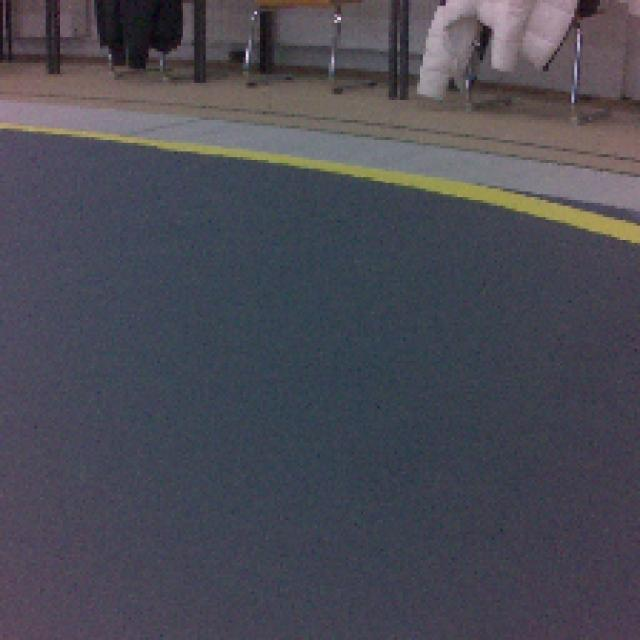Road: (0, 397, 638, 631)
